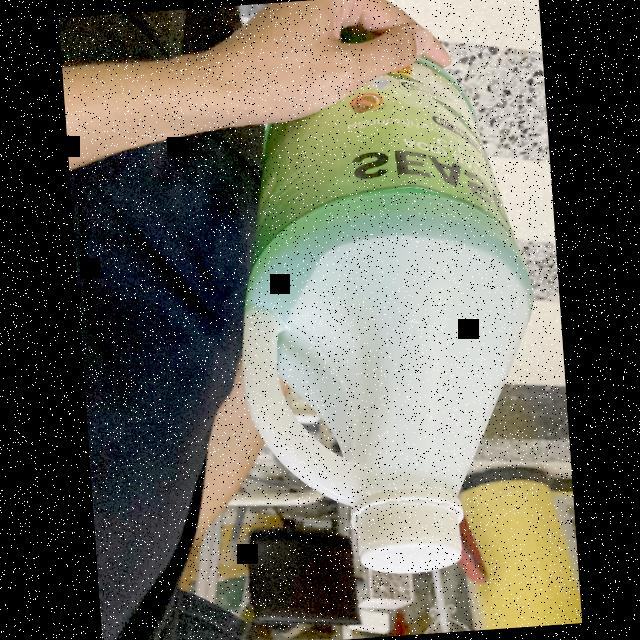chemical_plastic_gallon: (224, 47, 554, 586)
